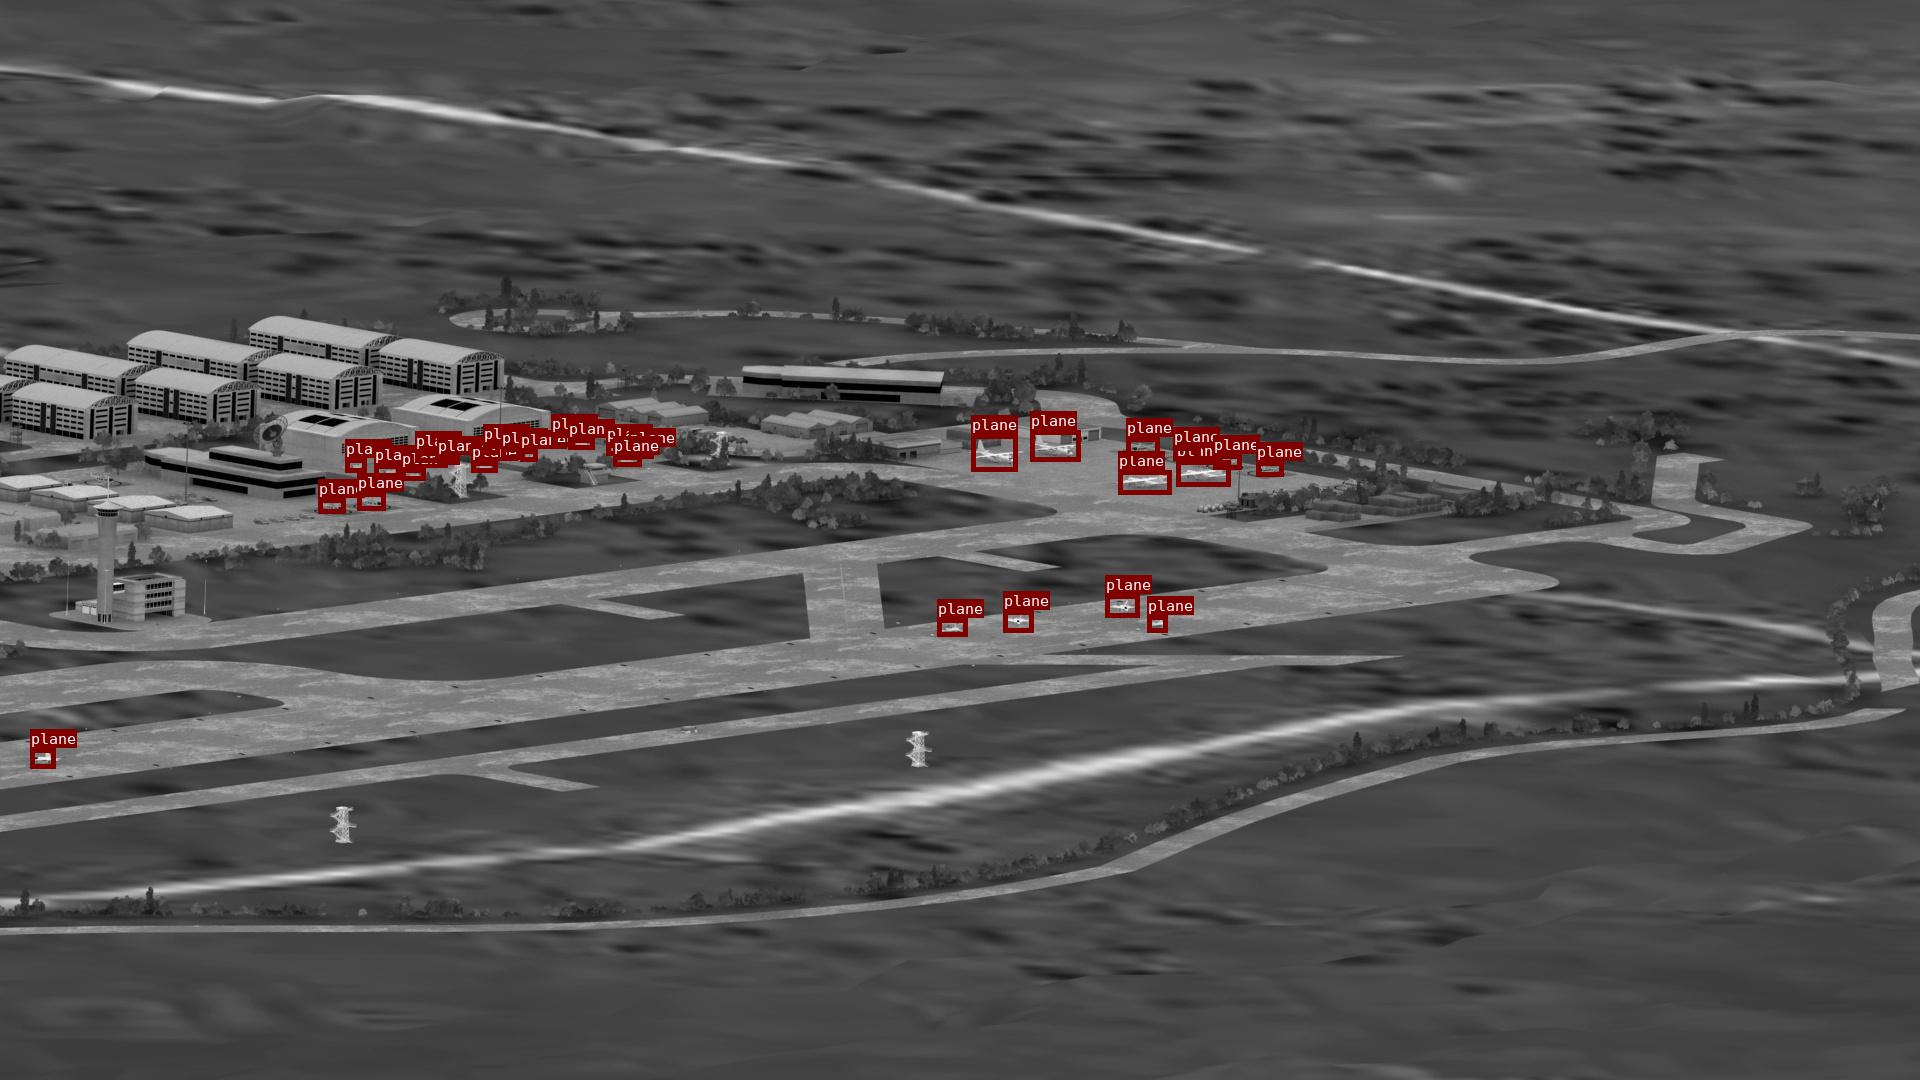plane: (971, 434, 1017, 471), (1030, 430, 1080, 462), (1176, 460, 1230, 487), (1118, 469, 1171, 495), (1105, 593, 1139, 617), (1004, 611, 1033, 632), (1126, 436, 1159, 455), (357, 492, 385, 510), (938, 618, 967, 636), (30, 748, 55, 767), (1213, 454, 1241, 469), (318, 498, 345, 513), (1255, 462, 1283, 476), (1174, 446, 1200, 460), (1147, 615, 1167, 632), (375, 464, 400, 477), (345, 458, 367, 472), (551, 433, 574, 446), (613, 455, 641, 465), (401, 468, 425, 480), (415, 450, 439, 462), (607, 443, 630, 455), (471, 462, 497, 472), (568, 438, 593, 448), (629, 447, 653, 458), (501, 447, 521, 459), (520, 448, 537, 462), (436, 455, 459, 464), (483, 443, 498, 454)
